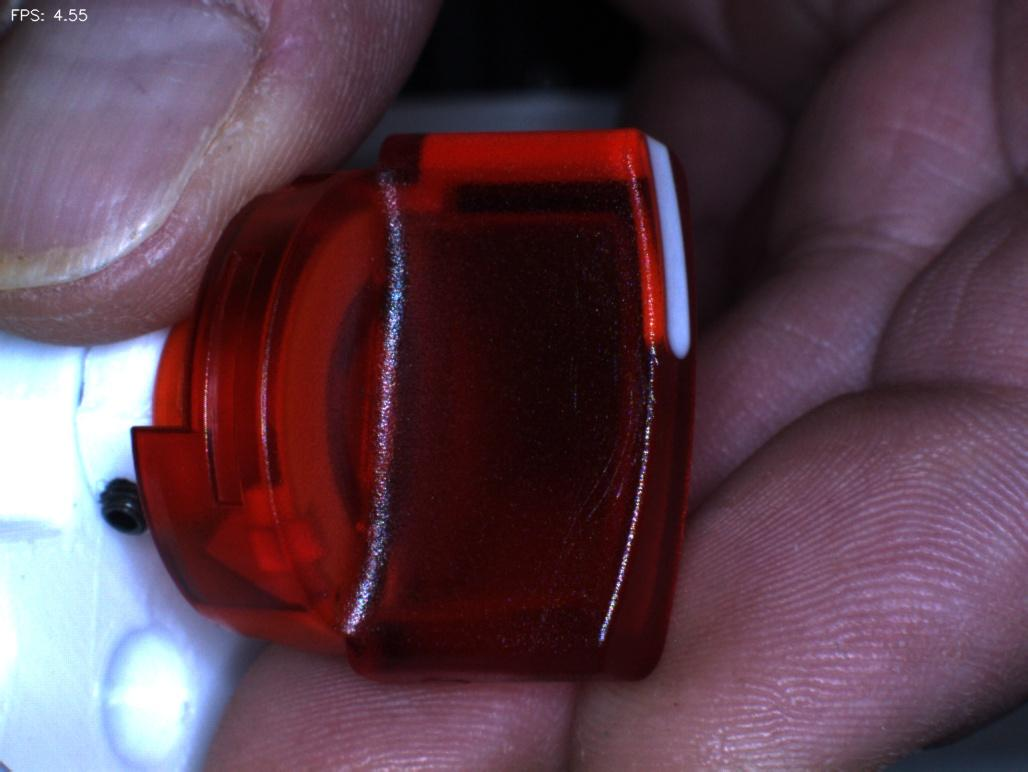Givrage: (541, 352, 636, 555)
